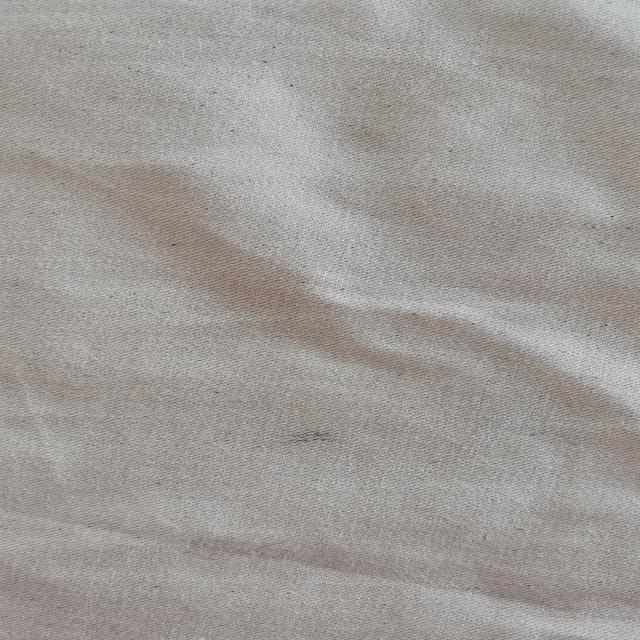taaaches: (262, 420, 350, 460)
